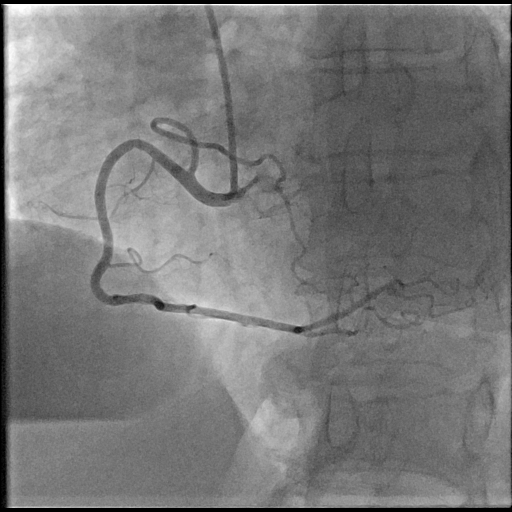RCA: (92, 116, 404, 338)
catherter: (207, 5, 237, 201)
